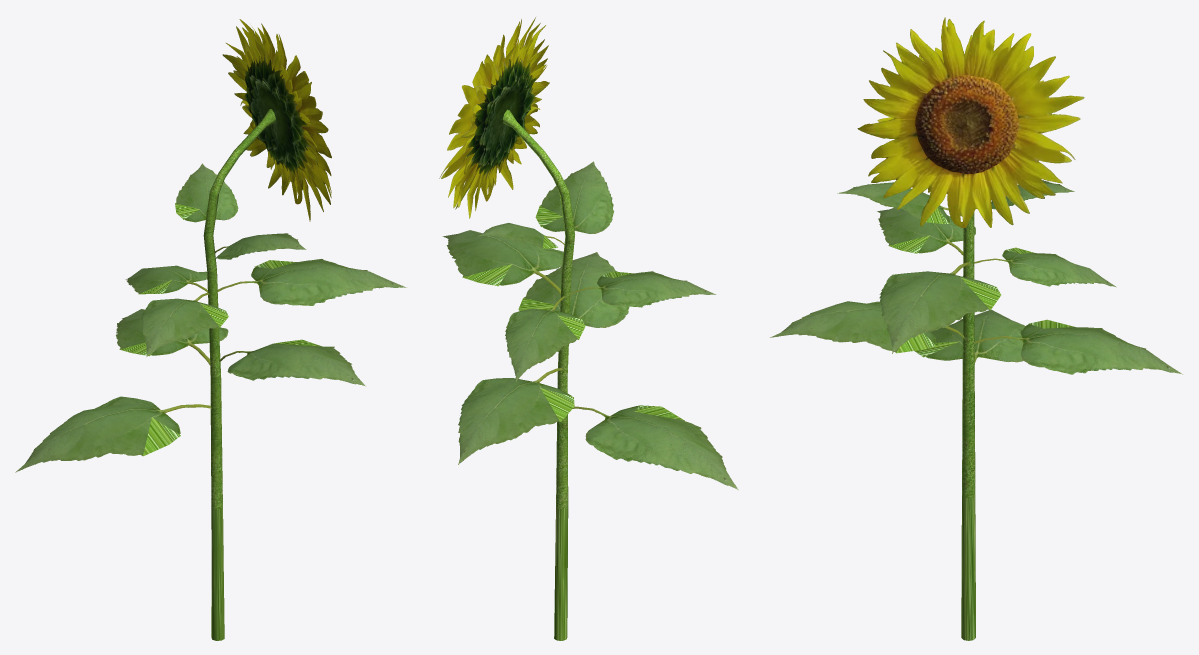
The model's file is sunflower.glb.
3 views of the same model, side by side, from view 1: azimuth 30°, elevation 25°; view 2: azimuth 150°, elevation 25°; view 3: azimuth 270°, elevation 25° (orthographic). The views are drawn at different scales.
Visible parts, largest first — view 1: sunflower; view 2: sunflower; view 3: sunflower.
Boxes of the visible parts, x1,y1,x2,y2 form: sunflower: [15, 19, 406, 640]; sunflower: [439, 17, 738, 640]; sunflower: [770, 17, 1182, 640].
Size of the model in its own units: 1.17 by 1.95 by 1.13.
Materials: 1 (1 with a texture image).
